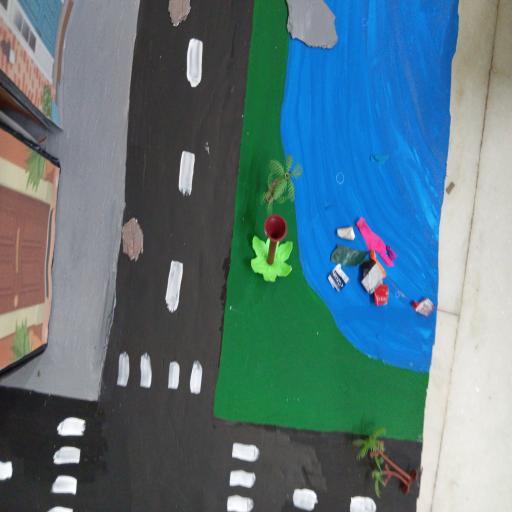encroachment: (285, 0, 341, 52)
fallen trees: (353, 428, 416, 499), (249, 216, 296, 286)
porthole: (120, 217, 147, 266), (168, 0, 193, 28)
trash: (326, 217, 435, 321)
